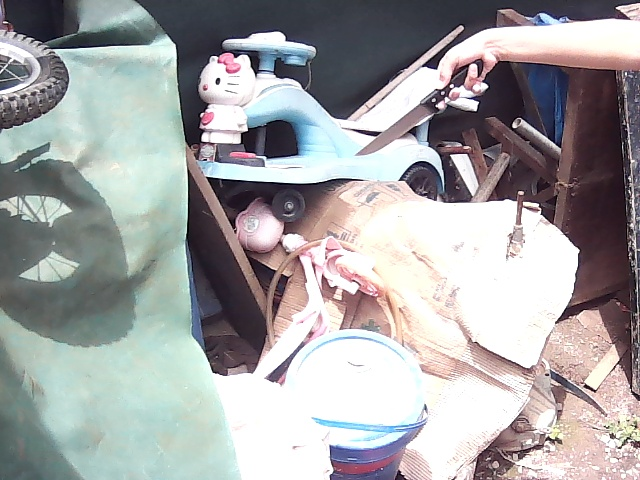cuchillo: (350, 83, 458, 163)
